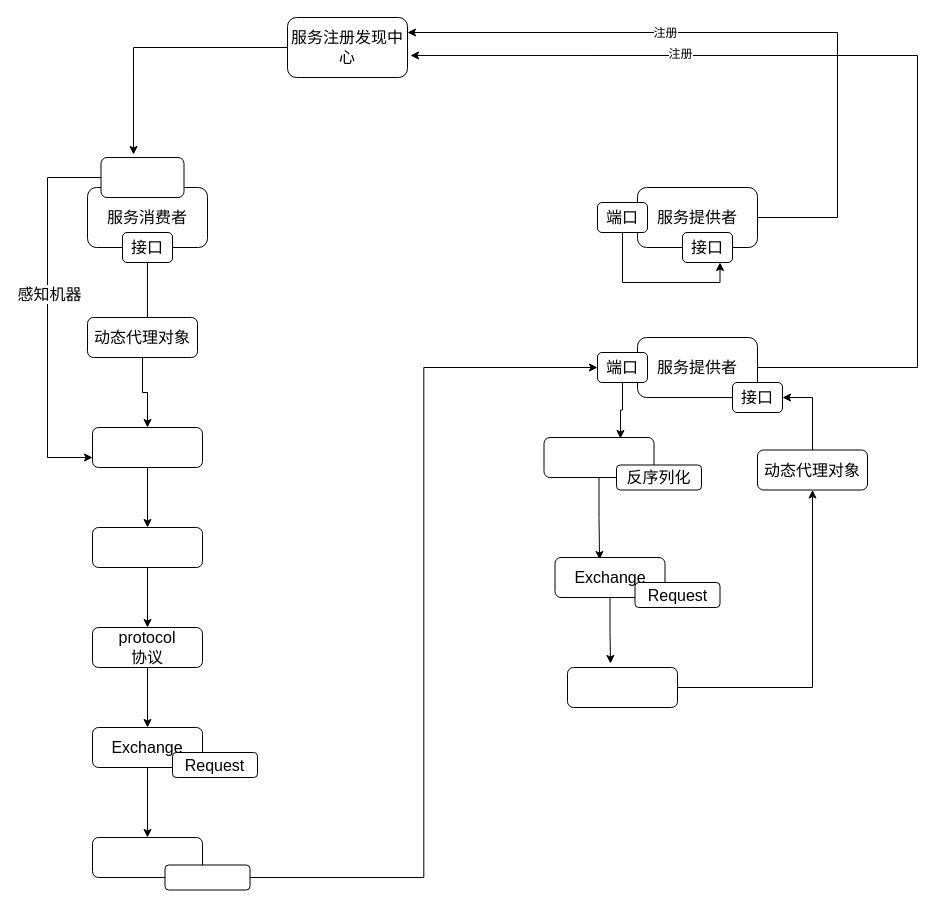
Some shapes in this 943 by 908 pixel diagram are drawn without their labels. Here are the shapes that lost their labels. From the top down, the centre of each, then its label:
At [142,177]: "服务提供者信息".
At [147,447]: "cluster".
At [598,457]: "Netty/mina".
At [147,547]: "balancer".
At [622,687]: "protocol".
At [147,857]: "Netty/mina 网络框架".
At [207,877]: "序列化".
